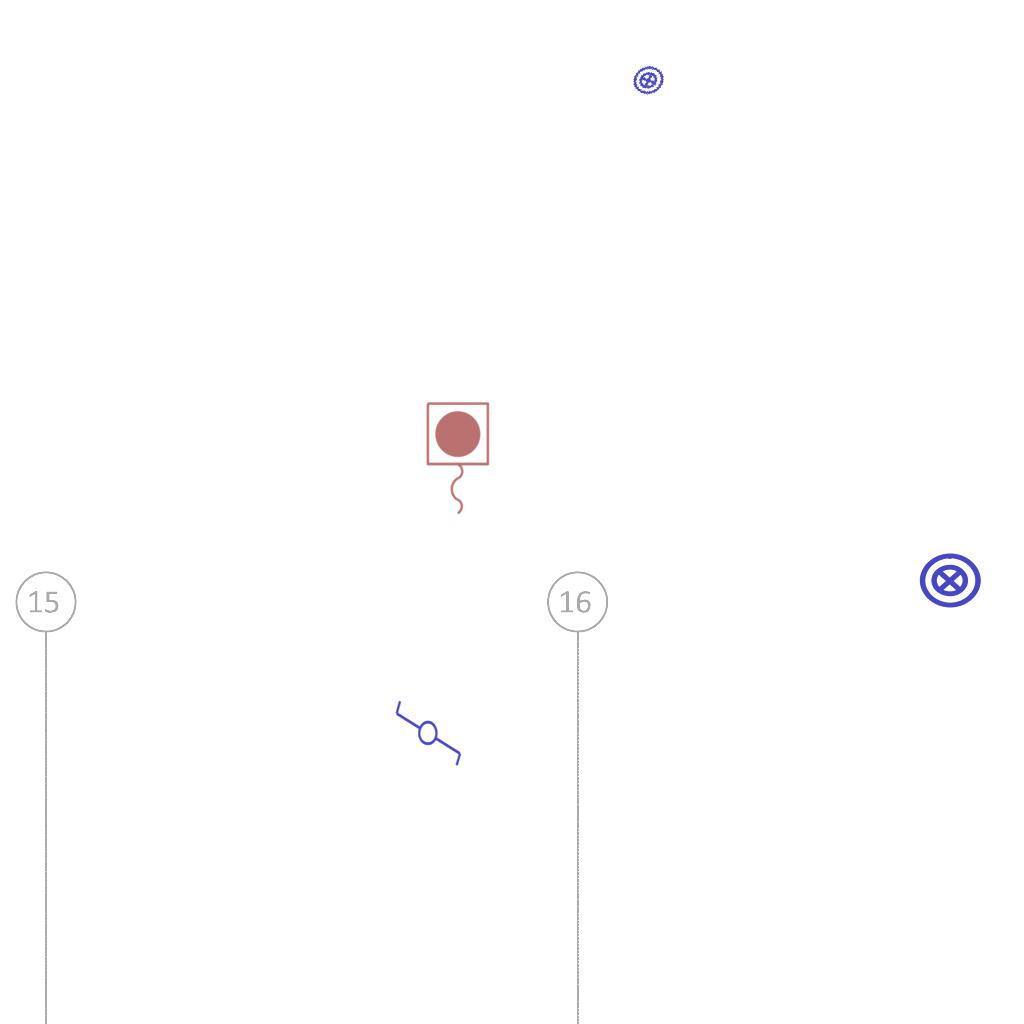Taster_beleuchtet: (917, 548, 983, 614), (626, 58, 671, 103)
Wechselschalter: (393, 690, 465, 768)
Zugtaster: (421, 398, 493, 520)
